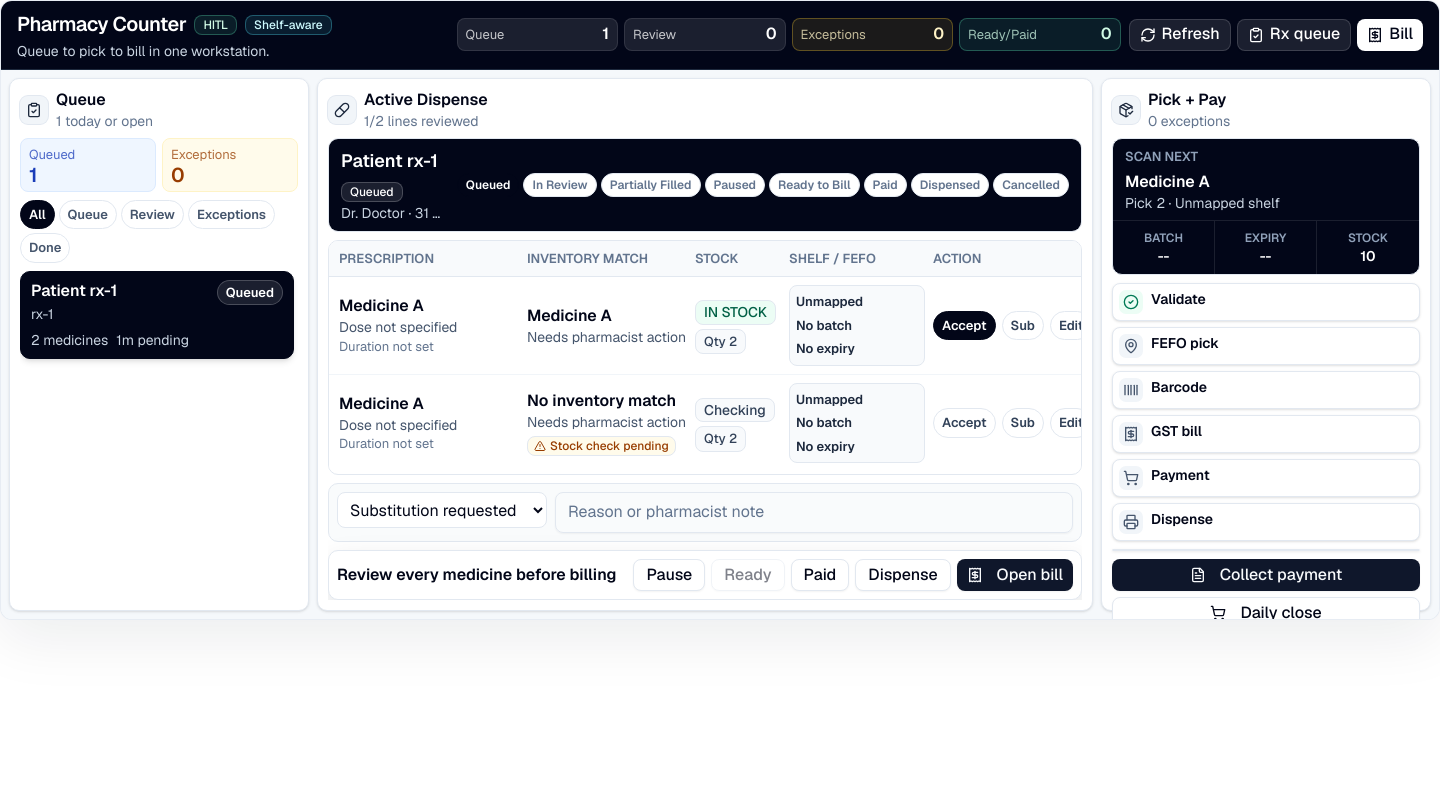
Scenario: keeps same-name prescription lines independently reviewed
This screenshot has width=1440, height=810.
Expected: the text "1/2 lines reviewed" is shown, x1=364 y1=112 x2=488 y2=130
Expected: the button "Ready" is disabled, x1=711 y1=559 x2=784 y2=591
What coordinates should you click on to do the following:
click the button "Accept" in the row of "Checking"
I would click on:
 (964, 423)
Its box is x1=933 y1=408 x2=996 y2=438.
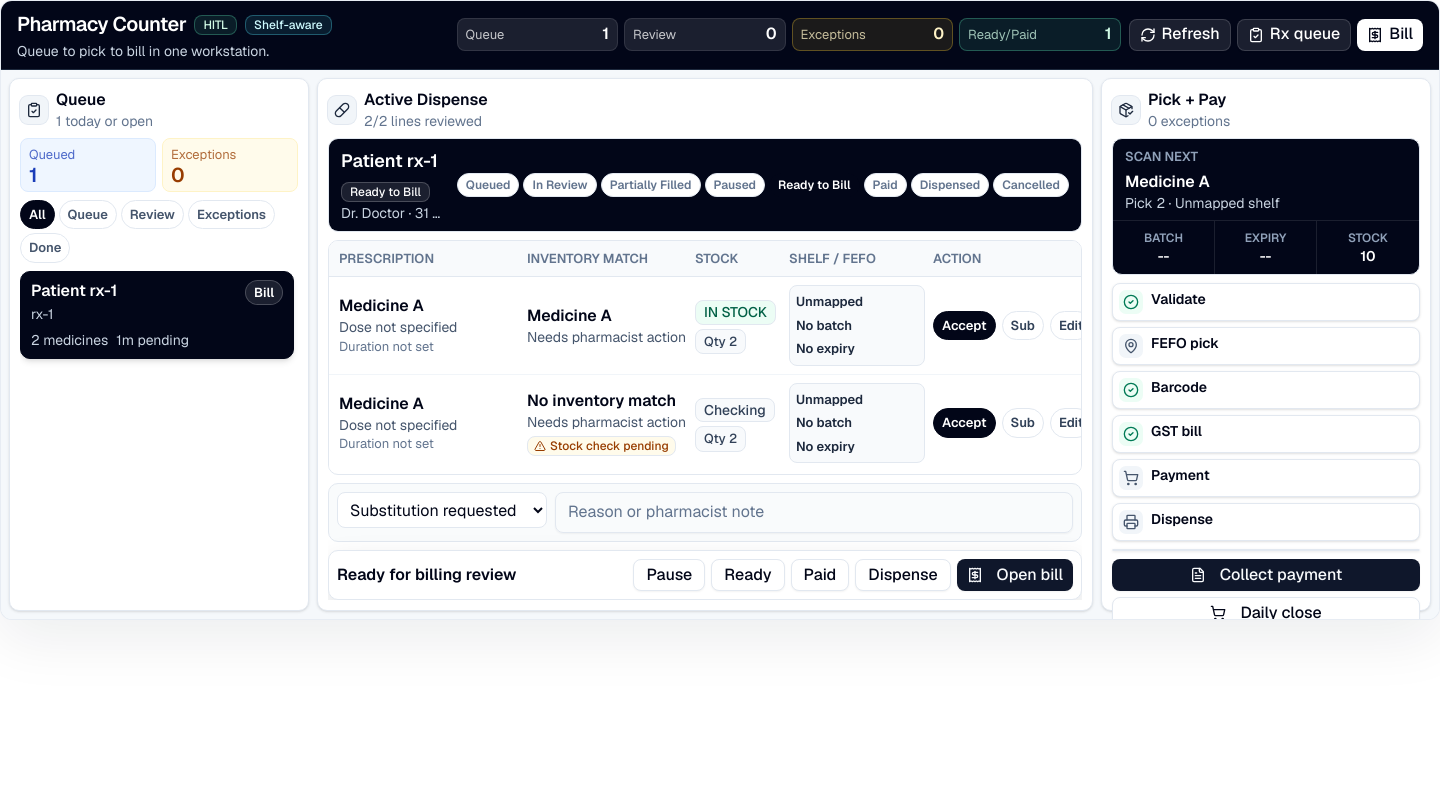
Expected: the text "2/2 lines reviewed" is shown, x1=364 y1=112 x2=488 y2=130
